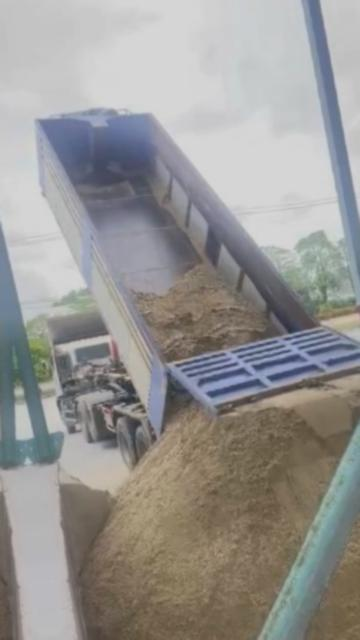sand: (83, 377, 348, 640), (295, 448, 360, 640), (137, 268, 265, 359), (256, 375, 360, 439), (60, 472, 112, 594)
